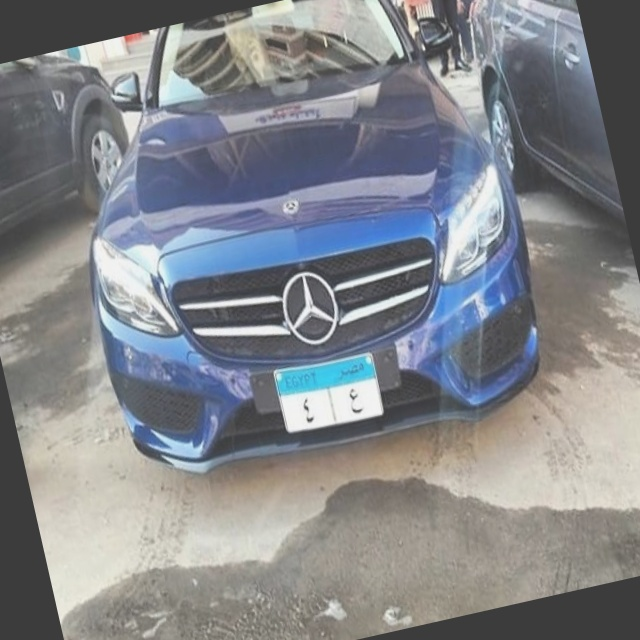License Plate: (270, 347, 388, 440)
